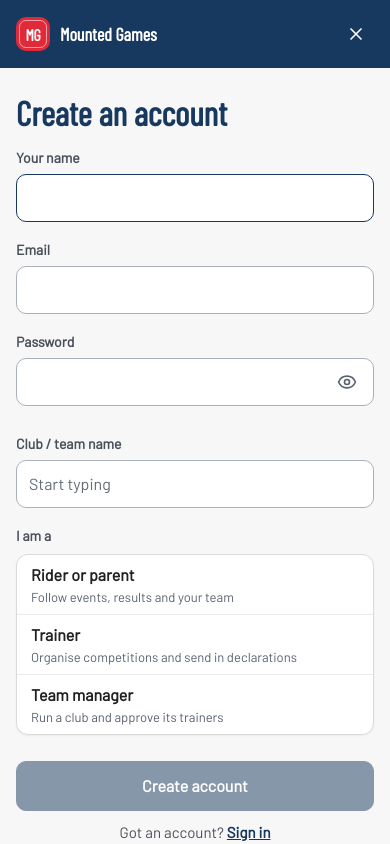
SignUpPage › suggests matching clubs and offers to add the typed name
The image size is (390, 844).
Type "sto" into the field labelled "Club / team name" at (195, 484), box [29,462,361,506]
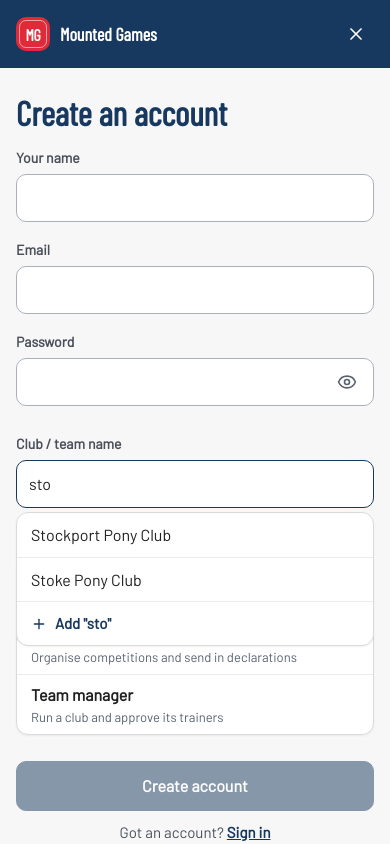
Expected: the buttons read "Stockport Pony Club", "Stoke Pony Club", "Add \"sto\"", in this order, [17,513,373,557]; [17,557,373,601]; [17,601,373,645]
